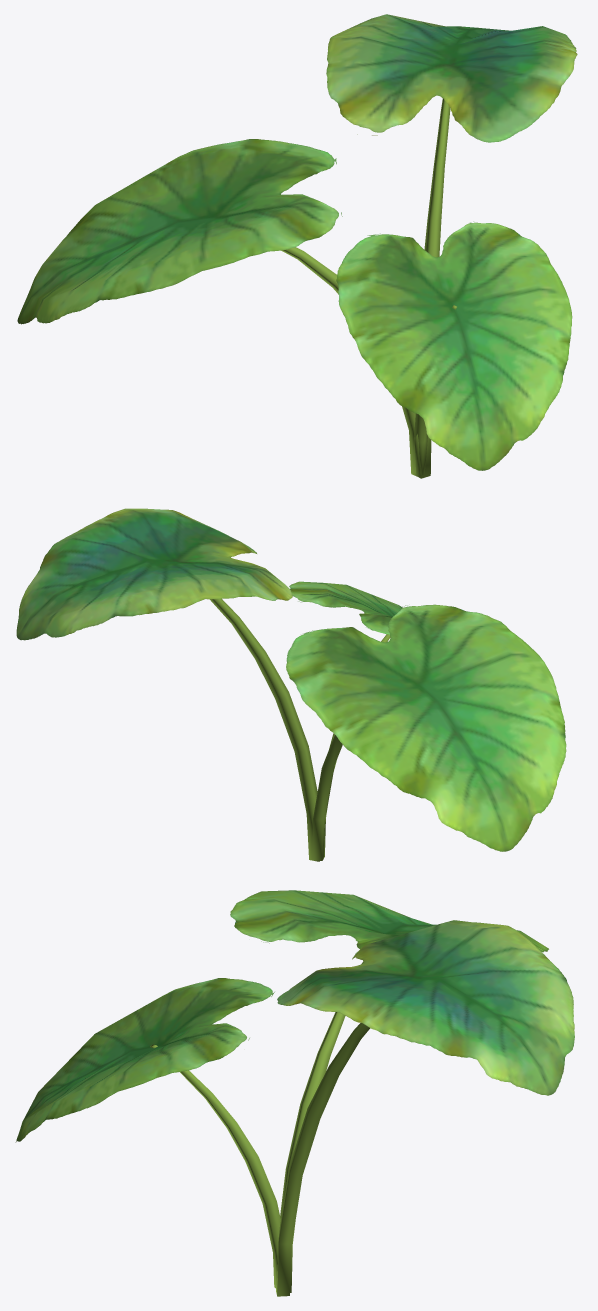
The model's file is P_ElephantEars01.obj.
The picture shows the model from 3 angles, top to bottom: view 1: azimuth 30°, elevation 25°; view 2: azimuth 150°, elevation 25°; view 3: azimuth 270°, elevation 25°; orthographic projection. The views are drawn at different scales.
Bounding box in the file's own units: 1.76 × 1.12 × 1.52.
